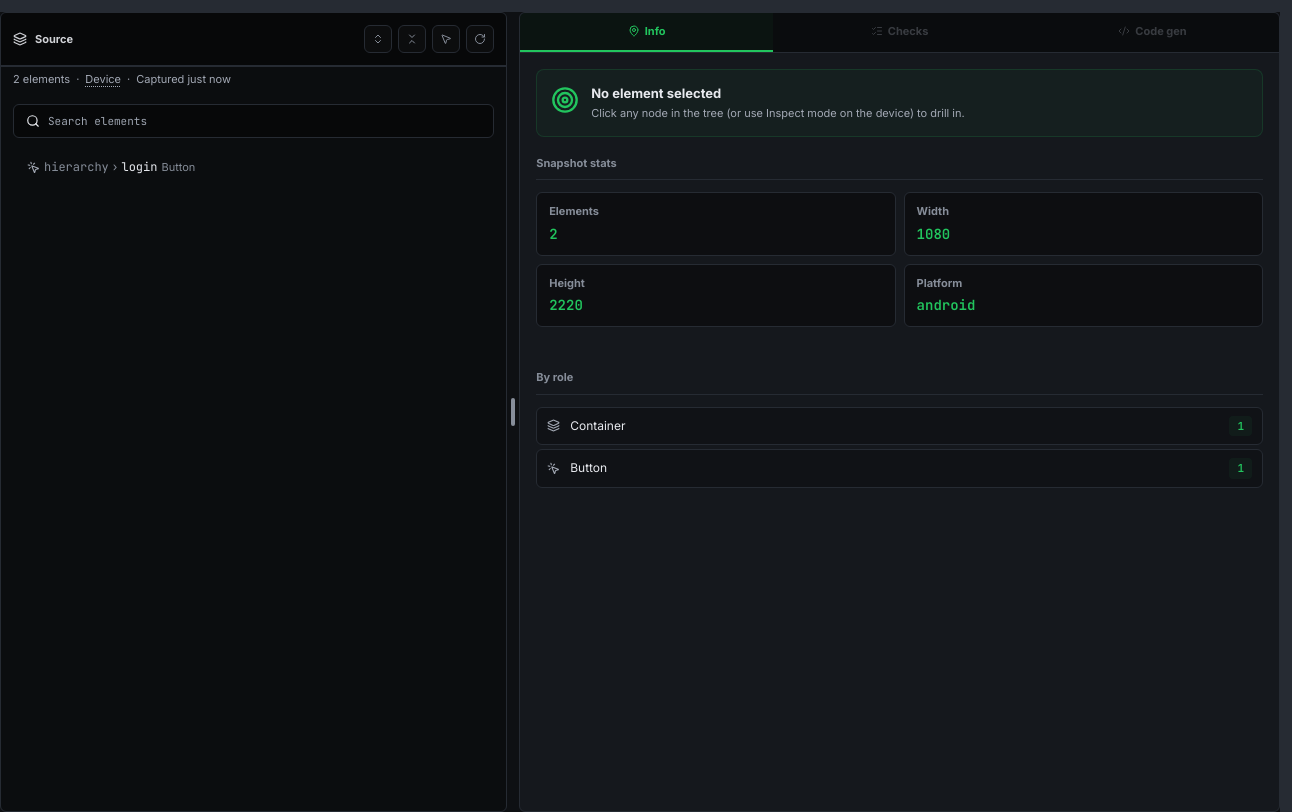
Test: OmniInspector — locator actions › labels each action in words
Click the list item "hierarchy › login Button" at (111, 167), box [27,159,195,175]
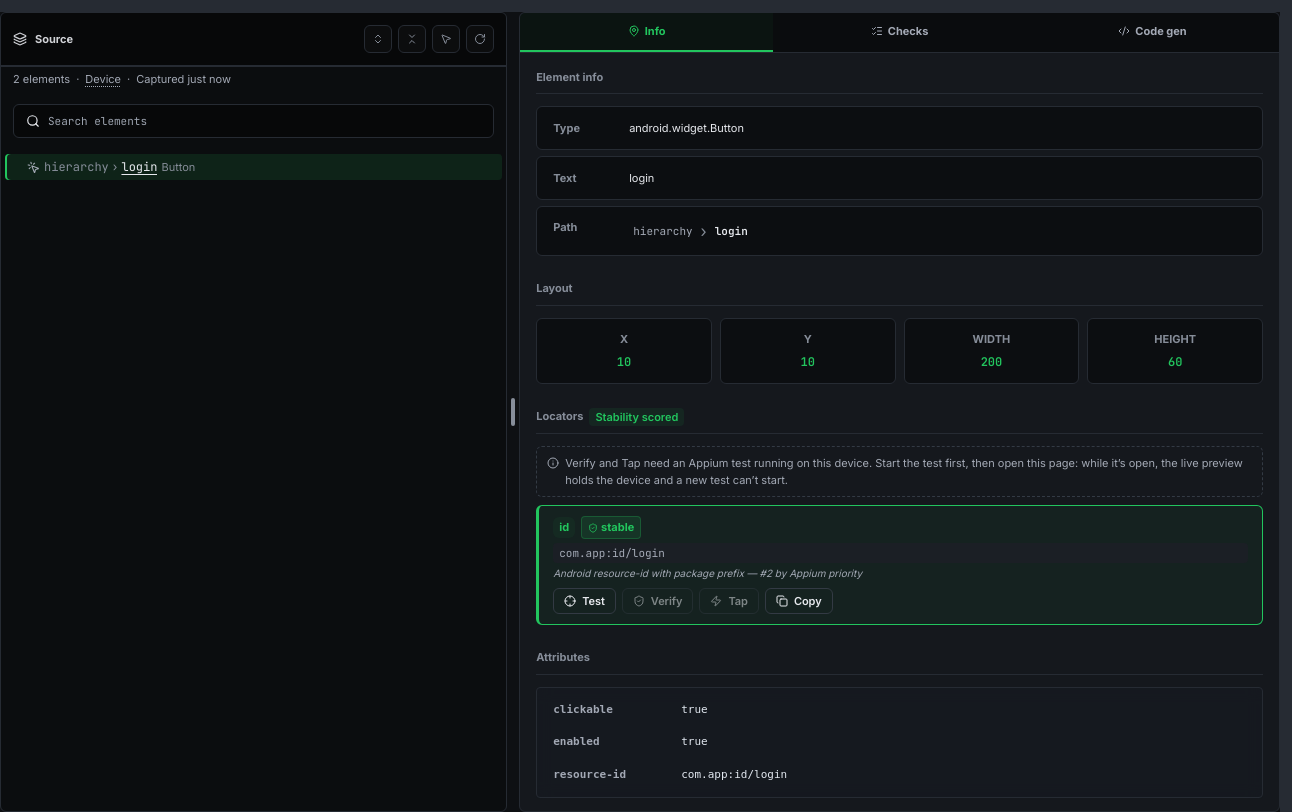
Check: the button with aria-label "Test locator" reads "Test", box [553,588,616,614]
Check: the button with aria-label "Verify with Appium" reads "Verify", box [622,588,693,614]
Check: the button with aria-label "Find and tap with Appium" reads "Tap", box [699,588,759,614]
Click the button with aria-label "Copy locator" at (799, 601), box [765,588,833,614]
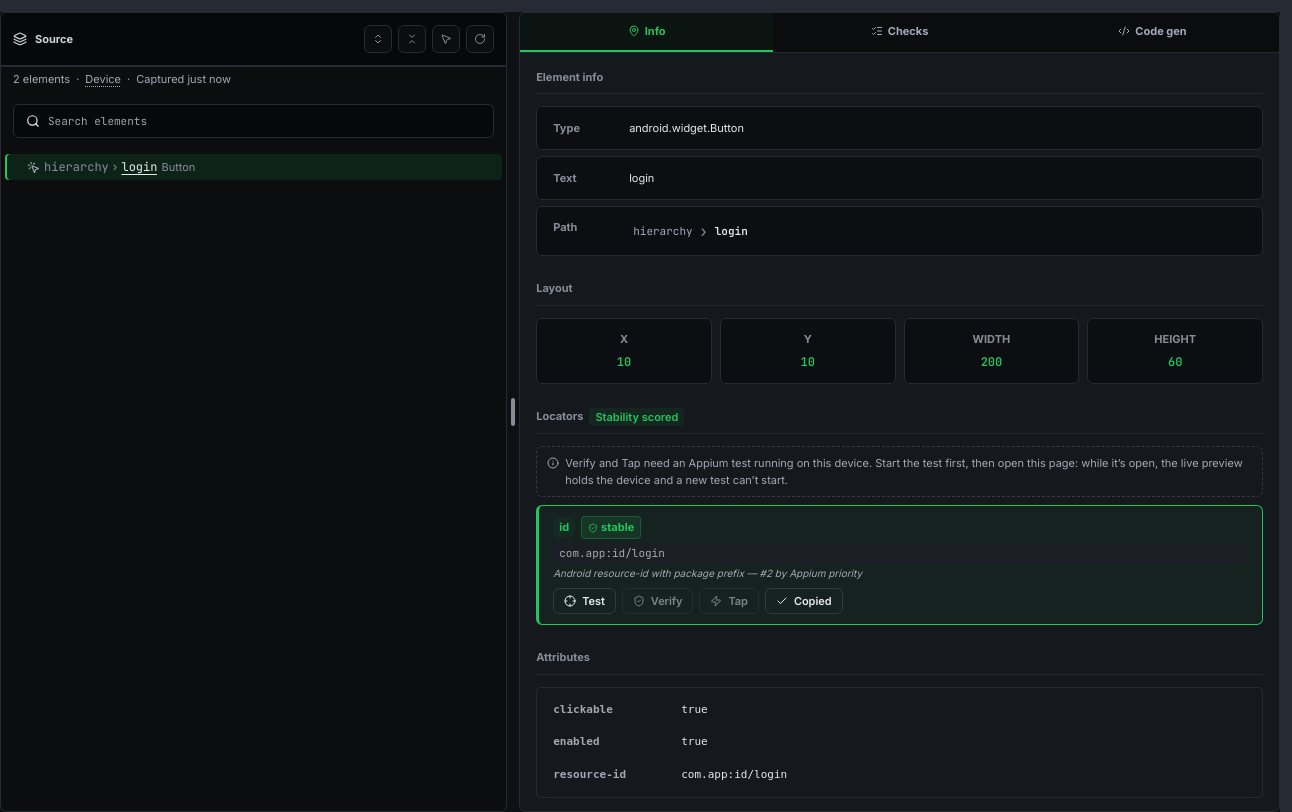
Check: the button "Copied" is shown, box [765,588,842,614]
